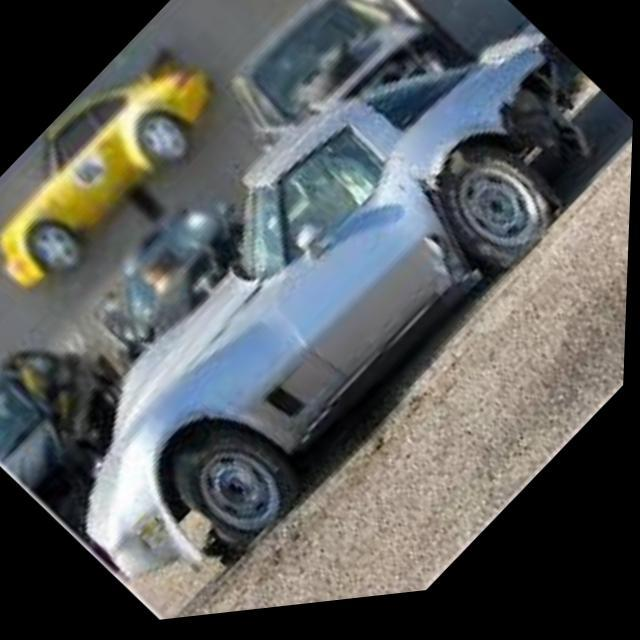no part: (401, 56, 600, 314)
